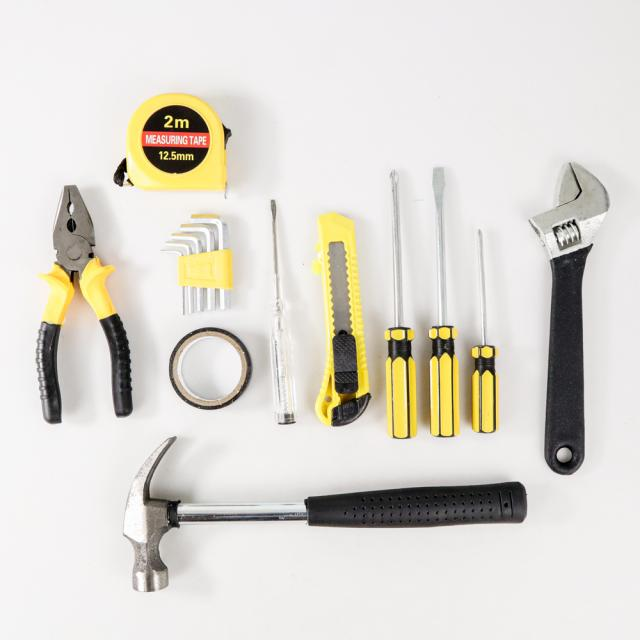Screwdriver: (385, 170, 418, 438), (429, 168, 460, 437), (270, 200, 296, 424), (471, 230, 499, 432)
